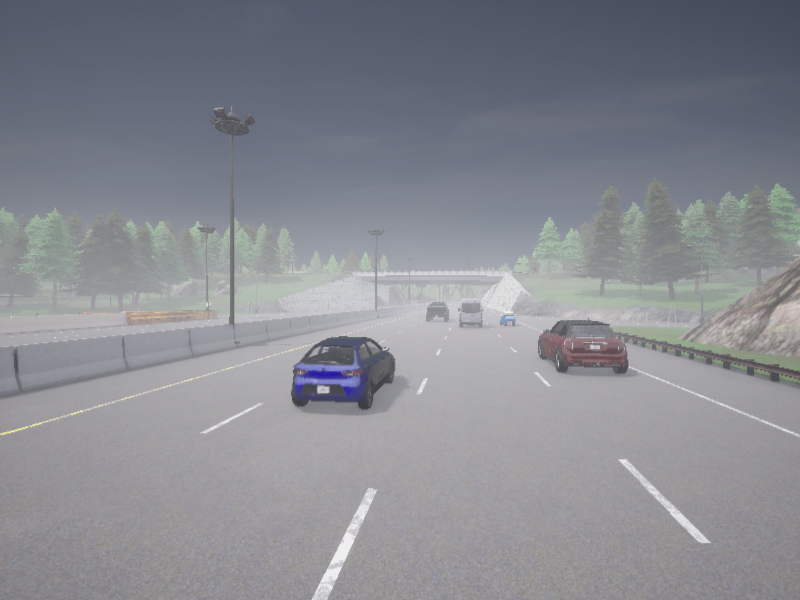vehicle: (541, 322, 624, 364), (458, 301, 482, 323), (427, 303, 447, 315)
